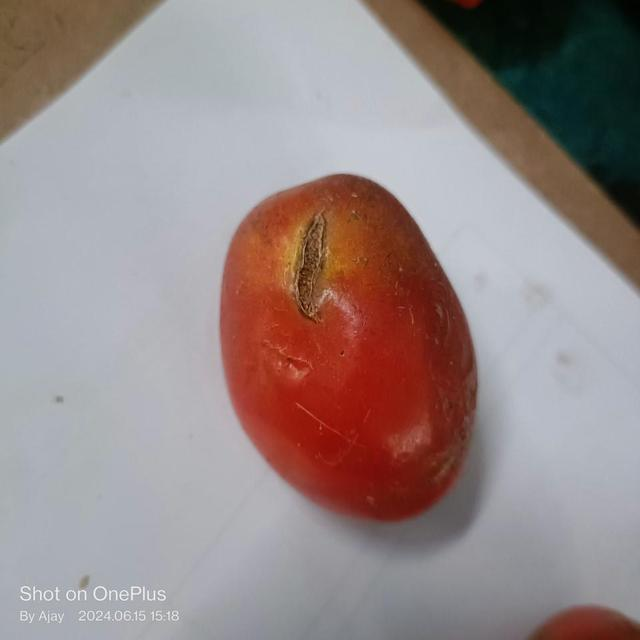Cracking Fruit: (94, 121, 310, 325)
